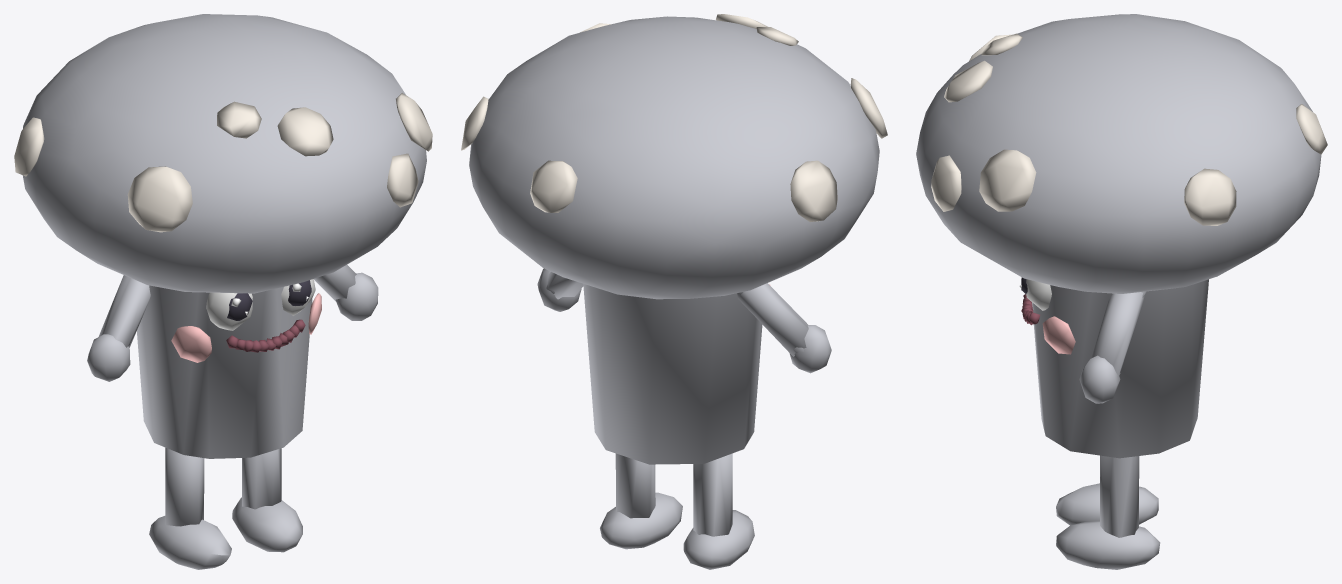
The model's file is Mushroom.fbx.
3 views of the same model, side by side, from view 1: azimuth 30°, elevation 25°; view 2: azimuth 150°, elevation 25°; view 3: azimuth 270°, elevation 25° (orthographic).
Visible parts, largest first — view 1: EX_Mushroom; view 2: EX_Mushroom; view 3: EX_Mushroom.
Boxes of the visible parts, box(x1,y1,x2,y2) form: EX_Mushroom: box(14, 14, 432, 569); EX_Mushroom: box(461, 14, 887, 569); EX_Mushroom: box(916, 14, 1327, 569).
Bounding box in the file's own units: 157 × 212 × 157.
